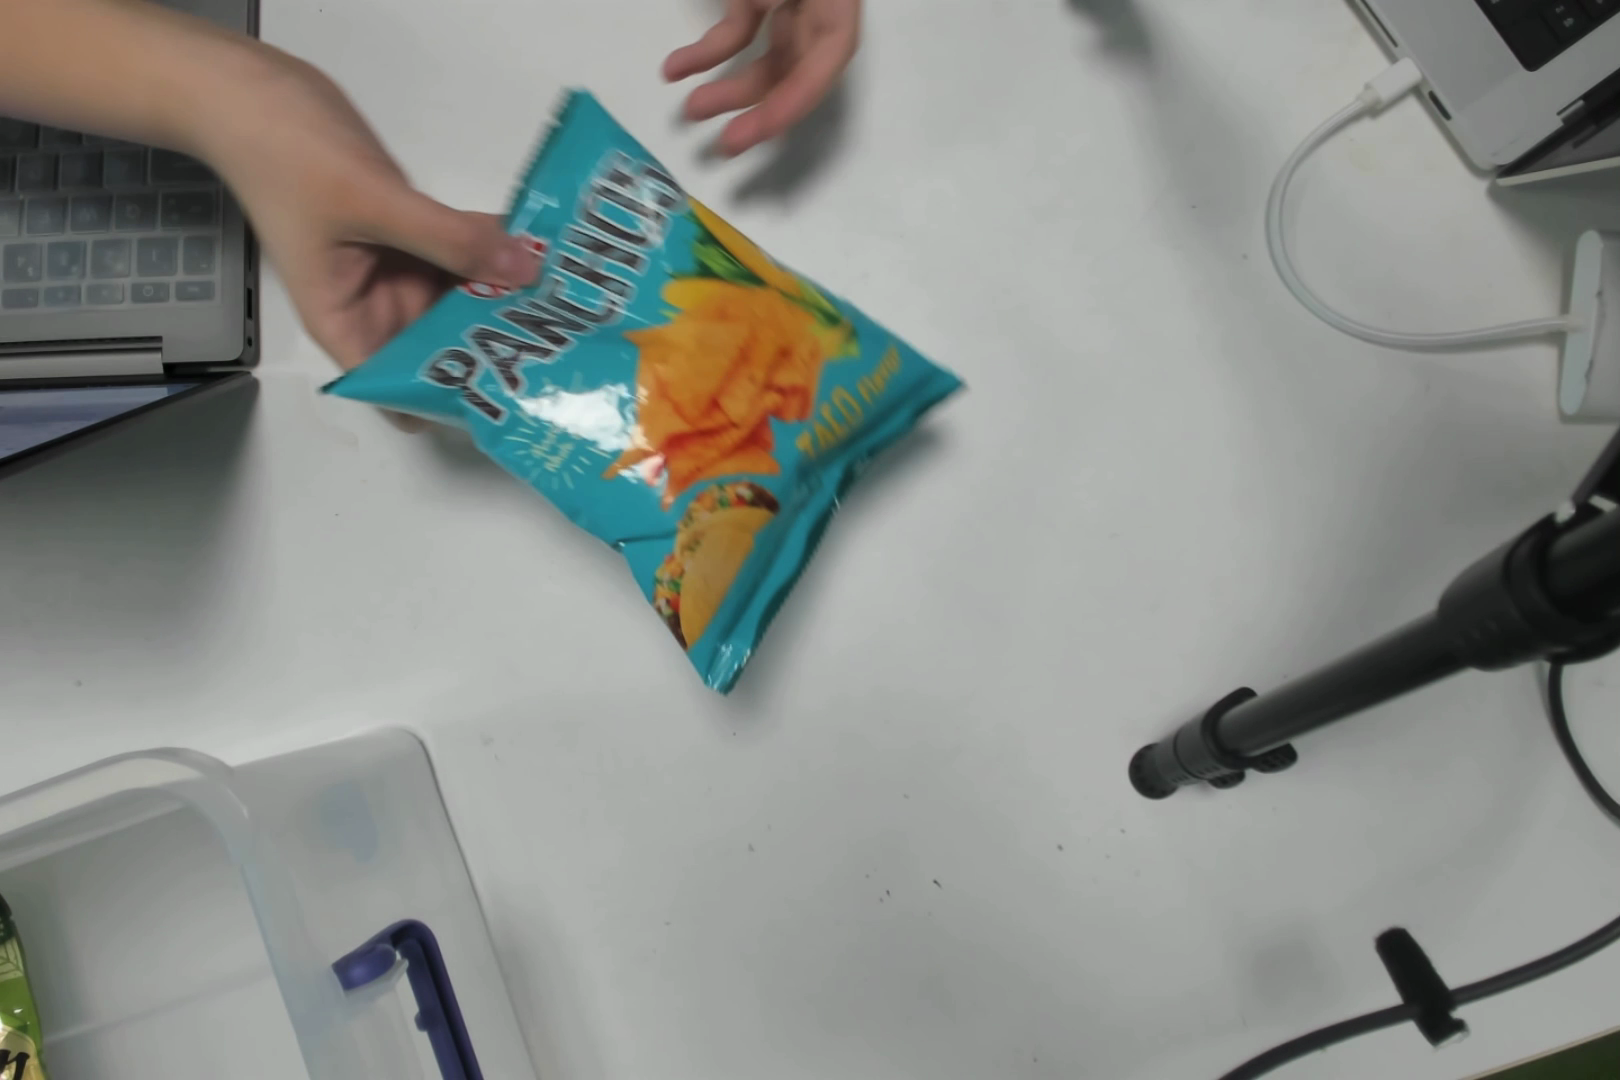PotatochipsKeropok_1-99g_NonHalal_NonHealthy: (445, 147, 874, 614)
